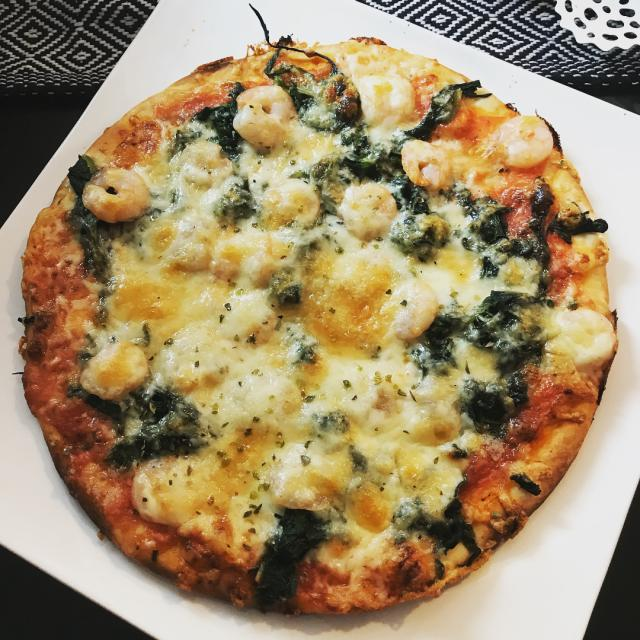pizza: (18, 31, 619, 618)
